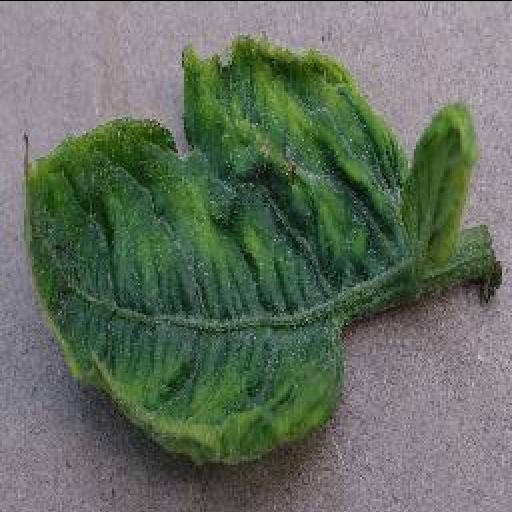disease_tomato: (18, 30, 480, 462)
